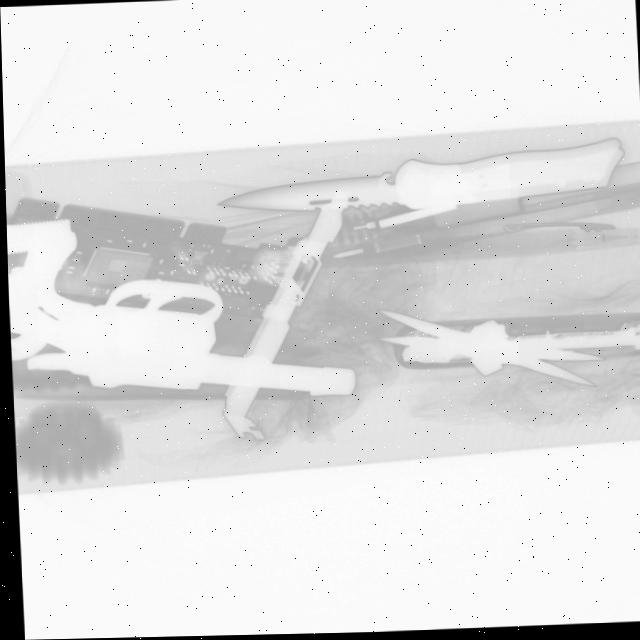knife: (213, 137, 628, 222)
pistol: (5, 199, 359, 410)
